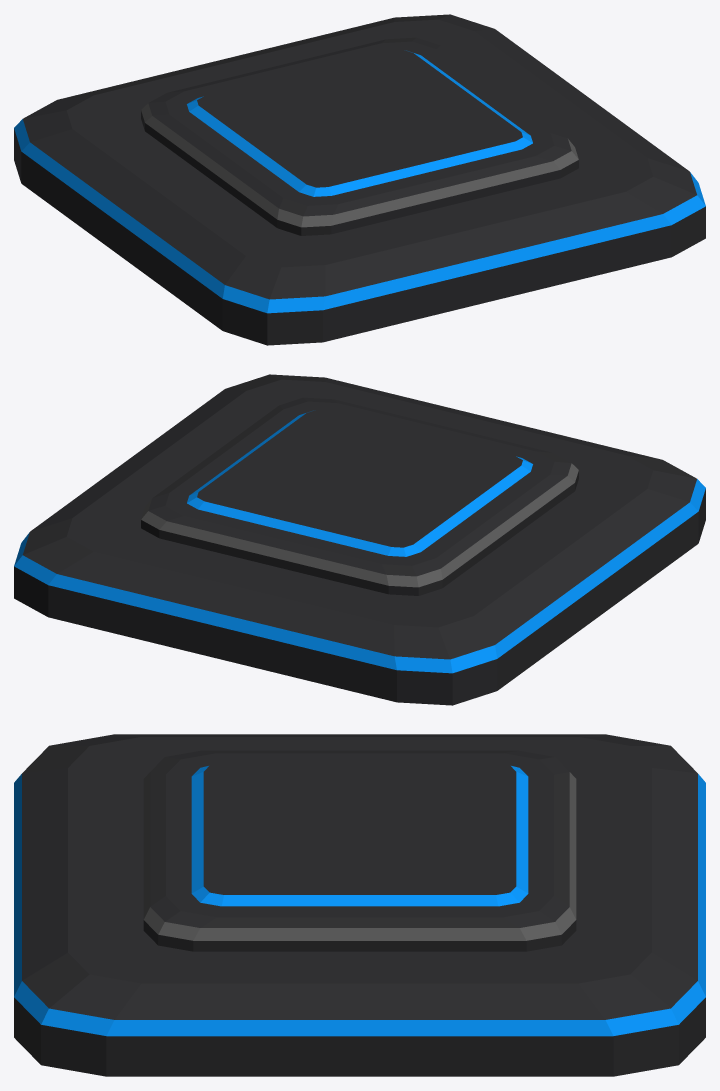
Rendered from Bounce.fbx.
3 renders of one model, top to bottom at view 1: azimuth 30°, elevation 25°; view 2: azimuth 150°, elevation 25°; view 3: azimuth 270°, elevation 25°, orthographic. The views are drawn at different scales.
Visible parts, largest first — view 1: Bounce; view 2: Bounce; view 3: Bounce.
Part boxes in pixels (left/top/right/bottom): Bounce: left=14, top=14, right=705, bottom=345; Bounce: left=14, top=374, right=705, bottom=705; Bounce: left=14, top=734, right=705, bottom=1076.
Bounding box in the file's own units: 48.44 × 8.67 × 48.44.
